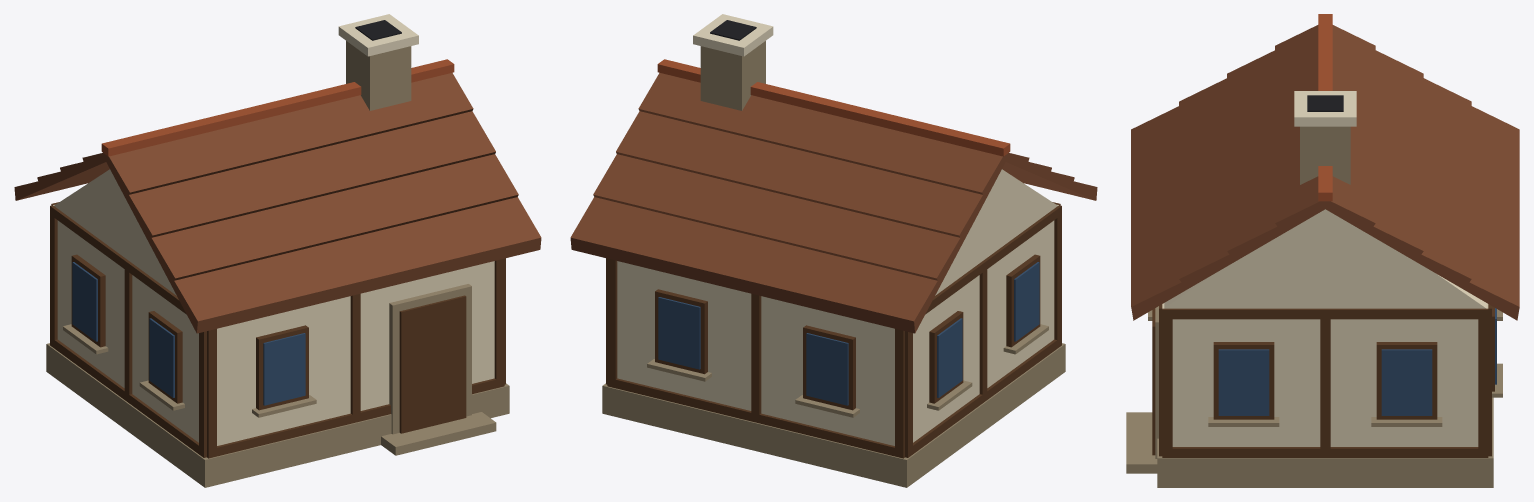
The model's file is House_01_Cottage.fbx.
3 renders of one model, left to right at view 1: azimuth 30°, elevation 25°; view 2: azimuth 150°, elevation 25°; view 3: azimuth 270°, elevation 25°, orthographic. The views are drawn at different scales.
Parts seen in each view (by area): view 1: House_01_Cottage; view 2: House_01_Cottage; view 3: House_01_Cottage.
Boxes of the visible parts, bbox=[...] form: House_01_Cottage: bbox=[14, 14, 541, 487]; House_01_Cottage: bbox=[570, 14, 1097, 487]; House_01_Cottage: bbox=[1126, 14, 1519, 487].
Bounding box in the file's own units: 5.84 × 5.46 × 5.43.
